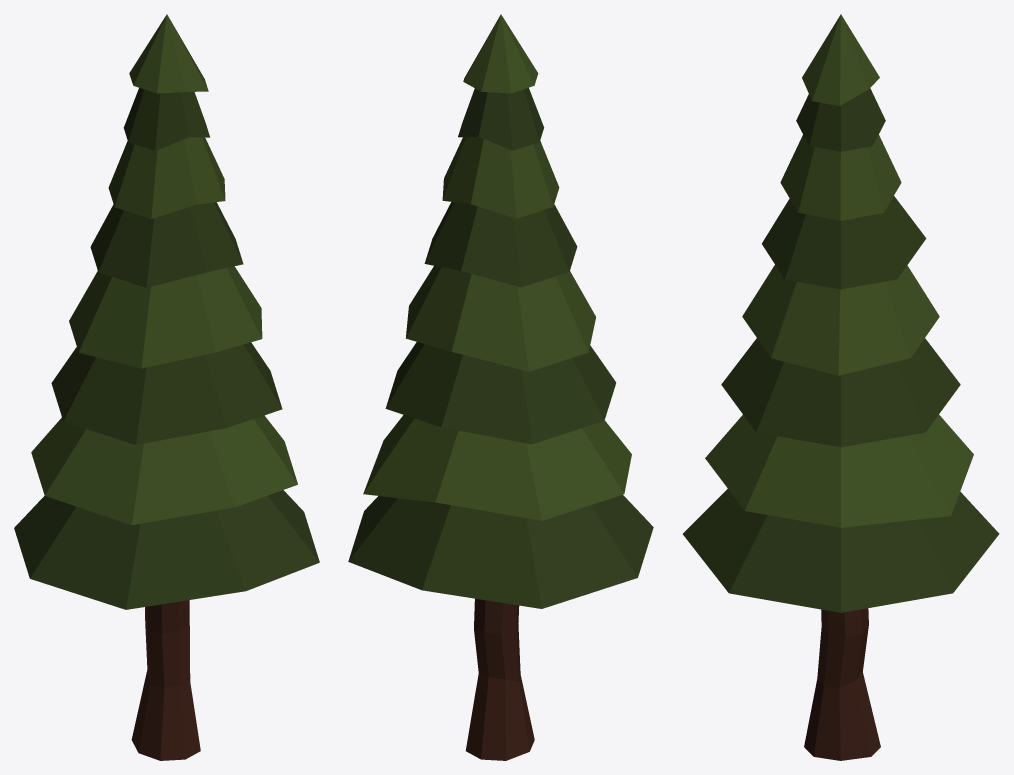
File: Fir01.fbx
3 renders of one model, left to right at view 1: azimuth 30°, elevation 25°; view 2: azimuth 150°, elevation 25°; view 3: azimuth 270°, elevation 25°, orthographic.
Visible parts, largest first — view 1: Fir01; view 2: Fir01; view 3: Fir01.
Boxes of the visible parts, bbox=[...] form: Fir01: bbox=[14, 14, 319, 760]; Fir01: bbox=[348, 14, 653, 760]; Fir01: bbox=[683, 14, 999, 760].
Bounding box in the file's own units: 259 × 662 × 259.
